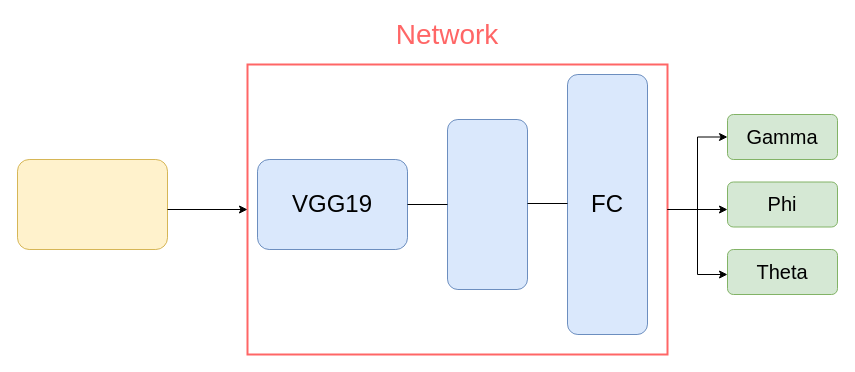
The diagram is 855 pixels wide and 372 high, and some of its shapes have lost their labels. The shapes that lost their labels are listed below. From the top down, each one's centre as x and y in pixels, then its label:
At (92,204): "Image".
At (487,204): "GAP".
